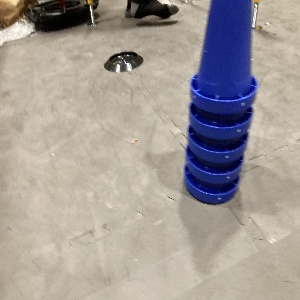Blue_5: (184, 0, 258, 204)
